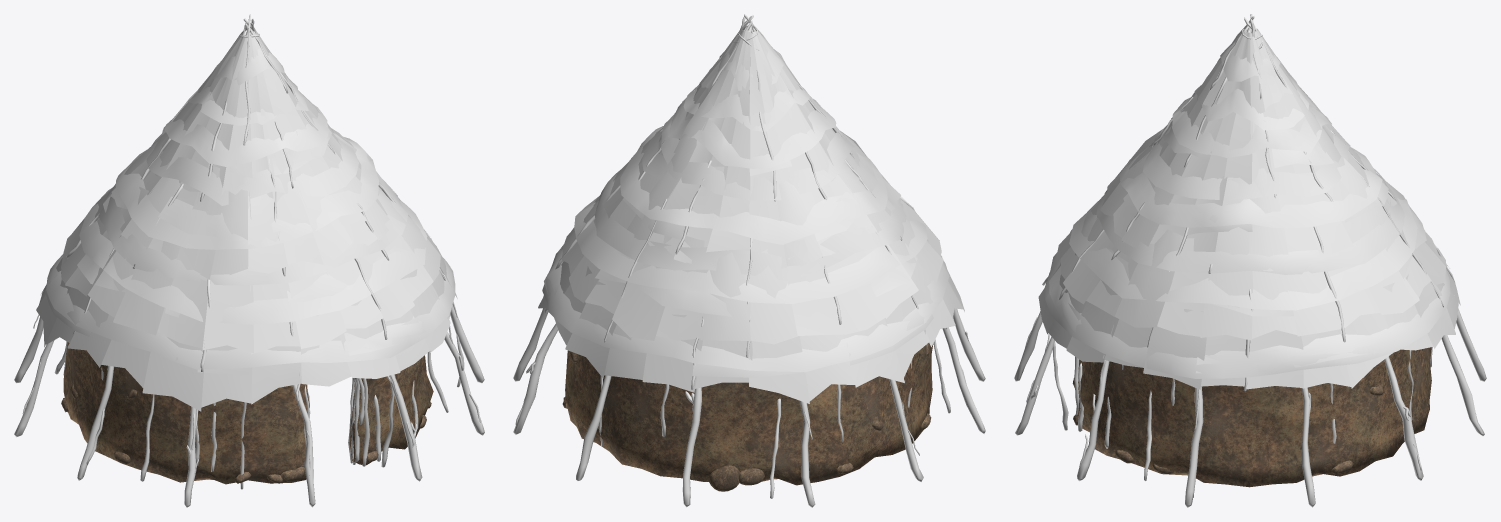
The model's file is midpoly_african_hut_001.fbx.
3 views of the same model, side by side, from view 1: azimuth 30°, elevation 25°; view 2: azimuth 150°, elevation 25°; view 3: azimuth 270°, elevation 25° (orthographic).
Parts seen in each view (by area): view 1: midpoly_african_hut_001; view 2: midpoly_african_hut_001; view 3: midpoly_african_hut_001.
Boxes of the visible parts, box(x1,y1,x2,y2) form: midpoly_african_hut_001: box(14, 14, 484, 507); midpoly_african_hut_001: box(513, 14, 985, 507); midpoly_african_hut_001: box(1014, 14, 1486, 507).
Bounding box in the file's own units: 449 × 422 × 449.
